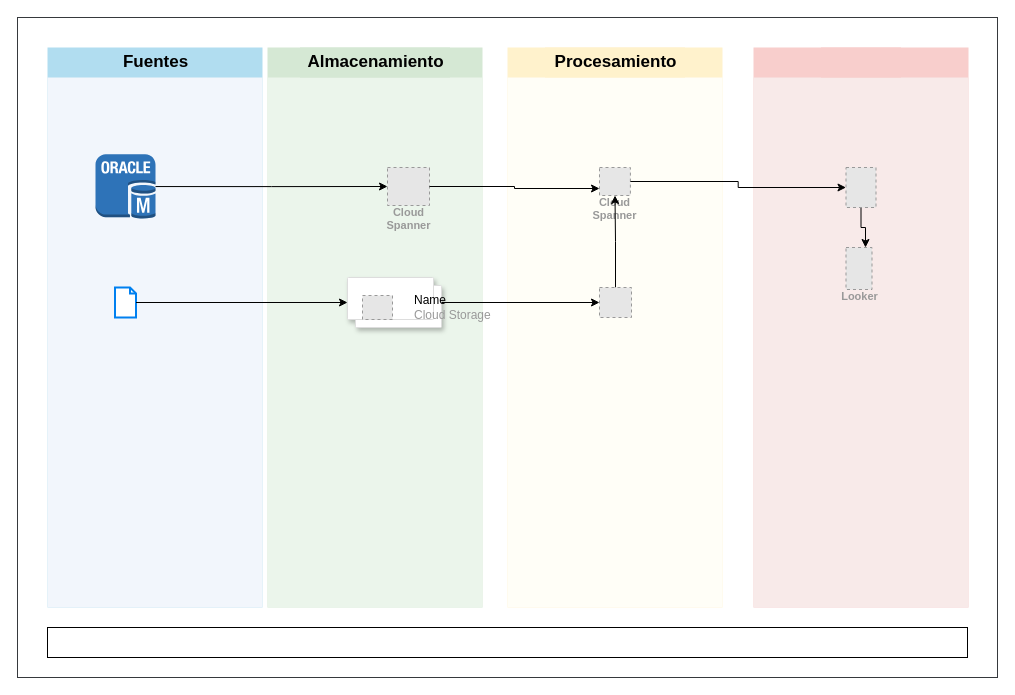
Image size: 1015x695. Some labels were removed from this diagram. Grey dashed boxes stand in for pictures. Each missing label, with the centre of its shape:
Análisis: pixel 860 62
MONITOREO: pixel 507 642
